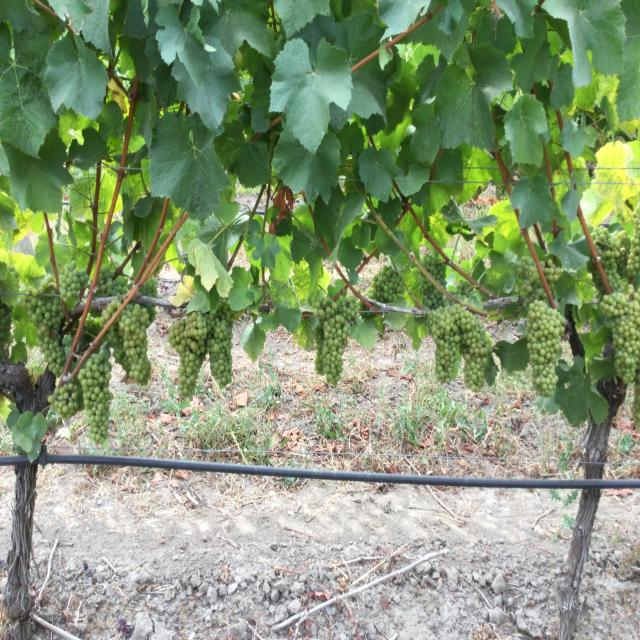grapes: (169, 302, 239, 397), (428, 303, 492, 392), (312, 295, 359, 385), (22, 282, 66, 377), (600, 287, 640, 383), (106, 303, 151, 385), (526, 300, 564, 397), (79, 353, 112, 445), (591, 227, 630, 292), (59, 260, 89, 308), (519, 257, 546, 308), (369, 265, 404, 303), (48, 382, 80, 418), (95, 265, 128, 297), (419, 273, 444, 310), (421, 255, 446, 287), (540, 260, 561, 292), (588, 258, 605, 297), (100, 300, 121, 327), (139, 278, 158, 298), (145, 303, 156, 323), (635, 387, 640, 425)
